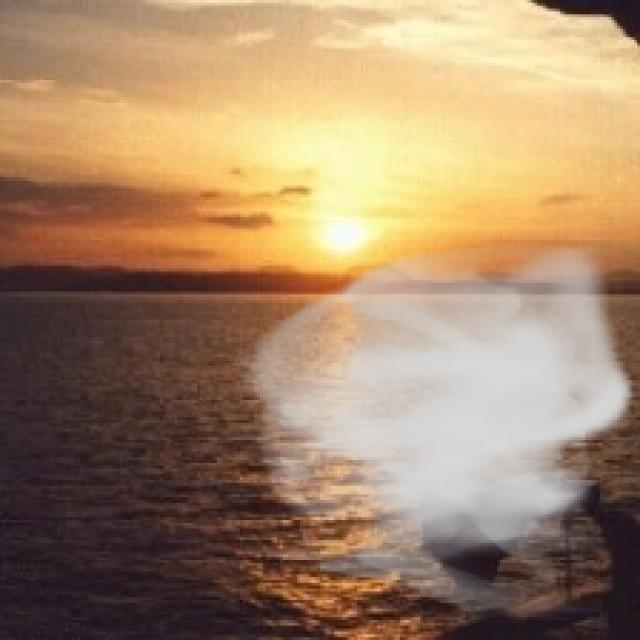smoke: (232, 234, 637, 623)
